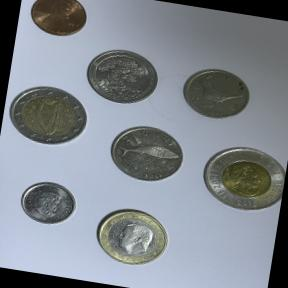1 Euro-B: (84, 199, 177, 274)
2 Euro-B: (0, 78, 94, 155)
Canada-10cent-B: (14, 174, 83, 232)
Canada-2Dollar-B: (192, 137, 288, 222)
Croatia-2Kune-B: (100, 117, 192, 192)
US-1cent-B: (19, 0, 95, 48)
US-25cent-B: (76, 39, 166, 110)
